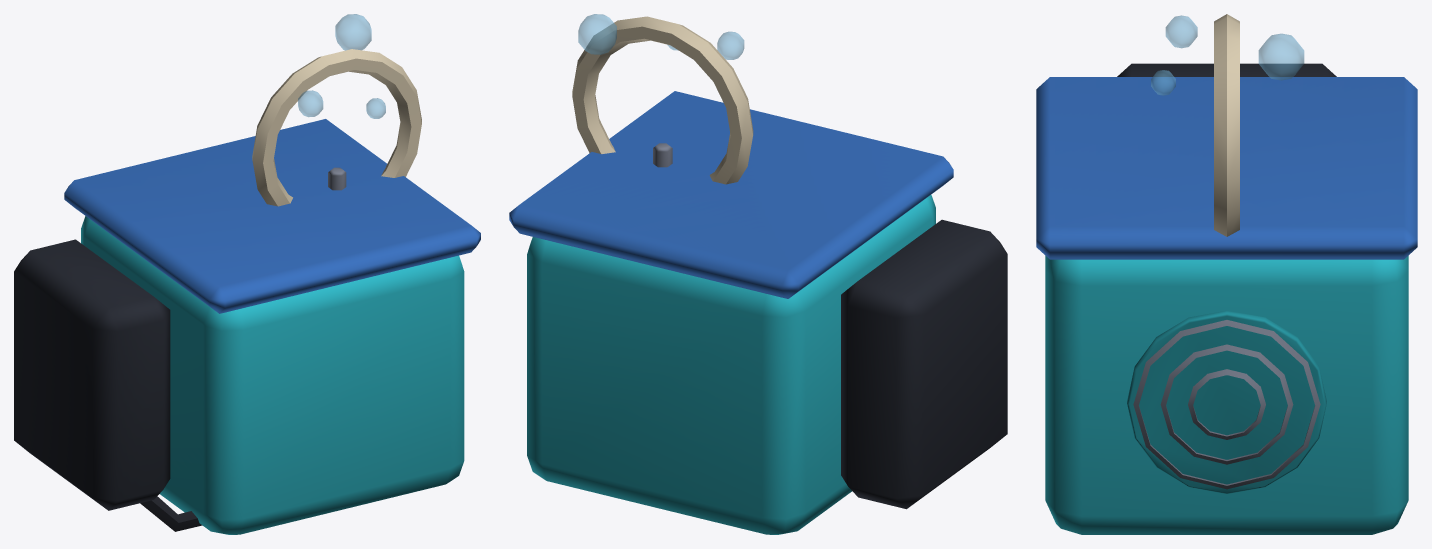
File: SM_Fx_BubbleMachine.fbx
3 renders of one model, left to right at view 1: azimuth 30°, elevation 25°; view 2: azimuth 150°, elevation 25°; view 3: azimuth 270°, elevation 25°, orthographic. The views are drawn at different scales.
Parts seen in each view (by area): view 1: SM_Fx_BubbleMachine; view 2: SM_Fx_BubbleMachine; view 3: SM_Fx_BubbleMachine.
Part boxes in pixels (box(x1,y1,x2,y2)): SM_Fx_BubbleMachine: box(14, 14, 480, 534); SM_Fx_BubbleMachine: box(509, 14, 1007, 534); SM_Fx_BubbleMachine: box(1036, 14, 1417, 534).
Bounding box in the file's own units: 57.18 × 60.66 × 42.06.
